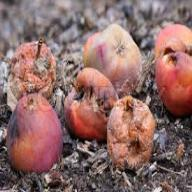apple: (6, 98, 60, 174), (82, 28, 140, 94), (65, 72, 117, 140), (108, 98, 156, 166), (8, 42, 58, 99), (154, 26, 190, 100)
